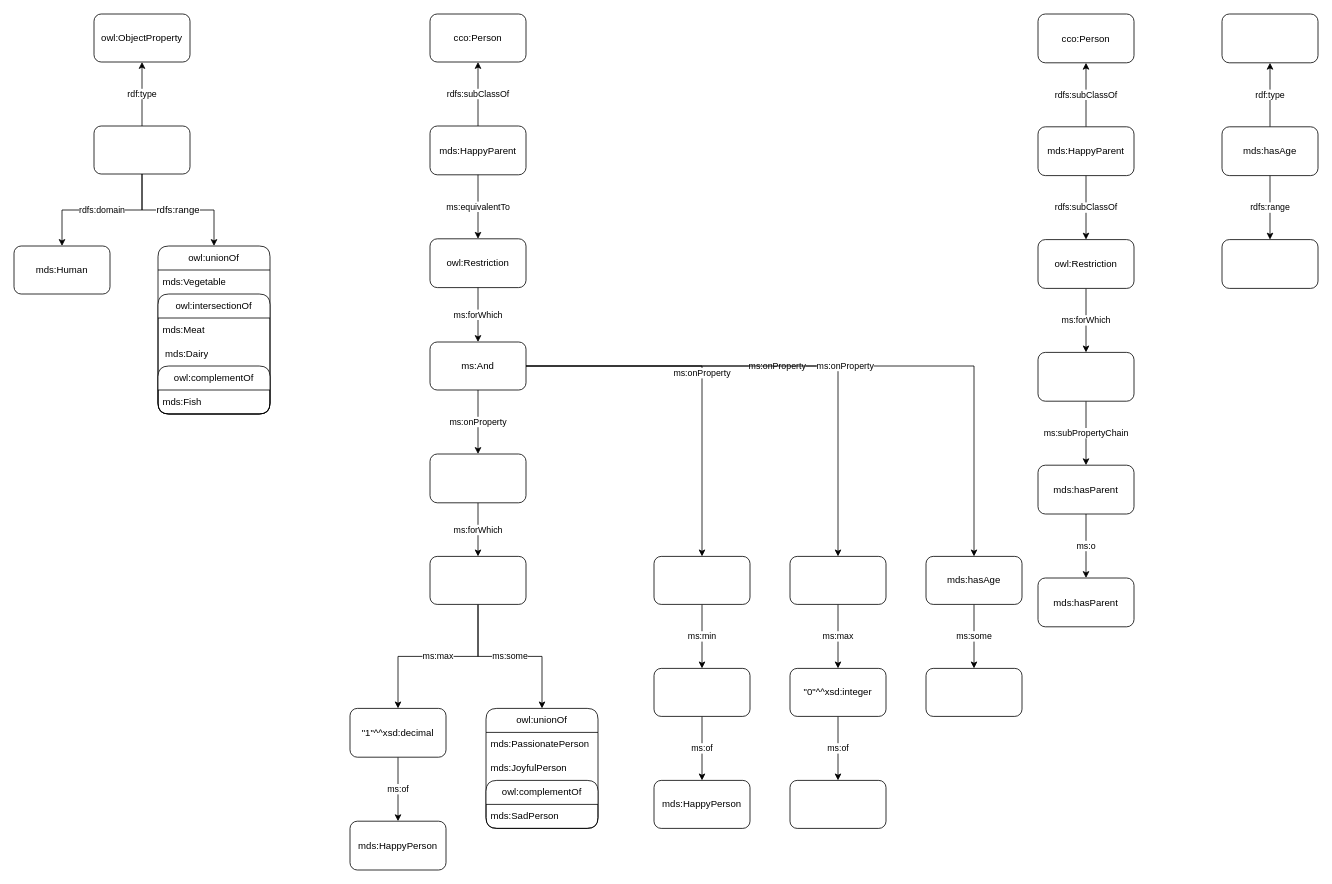
The diagram is 1332 pixels wide and 884 high, and some of its shapes have lost their labels. The shapes that lost their labels are listed below. From the top down, each one's centre as x and y in pixels, then its label:
pixel 1269 38: owl:DatatypeProperty
pixel 141 149: mds:Eats (eats,ate, consume, imbibe)
pixel 1269 263: xsd:string
pixel 1085 376: ms:Single
pixel 477 478: mds:hasChild
pixel 477 580: ms:Or
pixel 701 580: mds:hasWife
pixel 837 580: mds:hasUncle
pixel 701 692: "1"^^xsd:integer
pixel 973 692: xsd:string[>= 0.0,<= 50.0]
pixel 837 804: mds:GrumpyPerson
